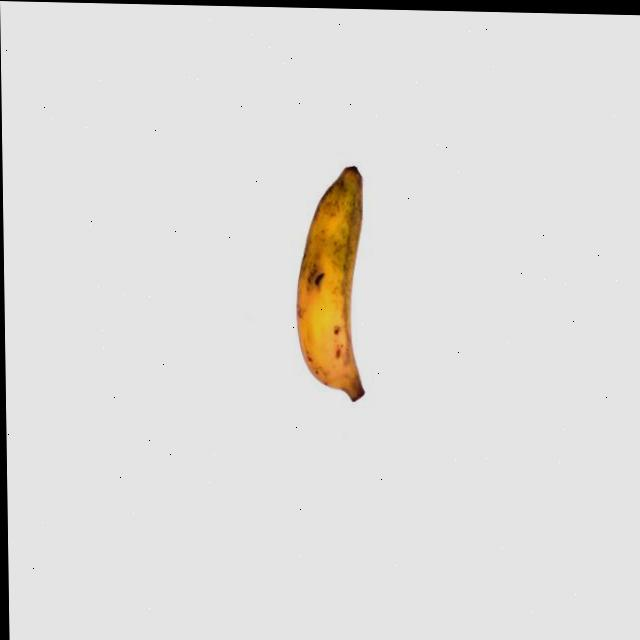banana: (292, 159, 370, 405)
